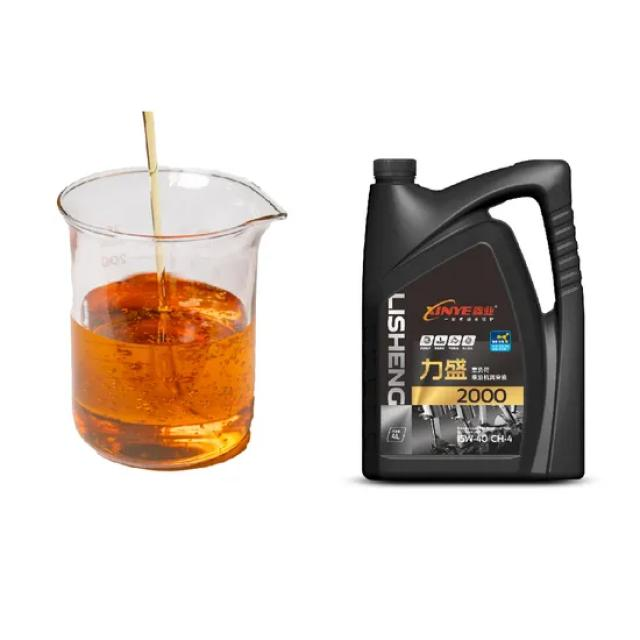motor_oil: (356, 149, 593, 486)
